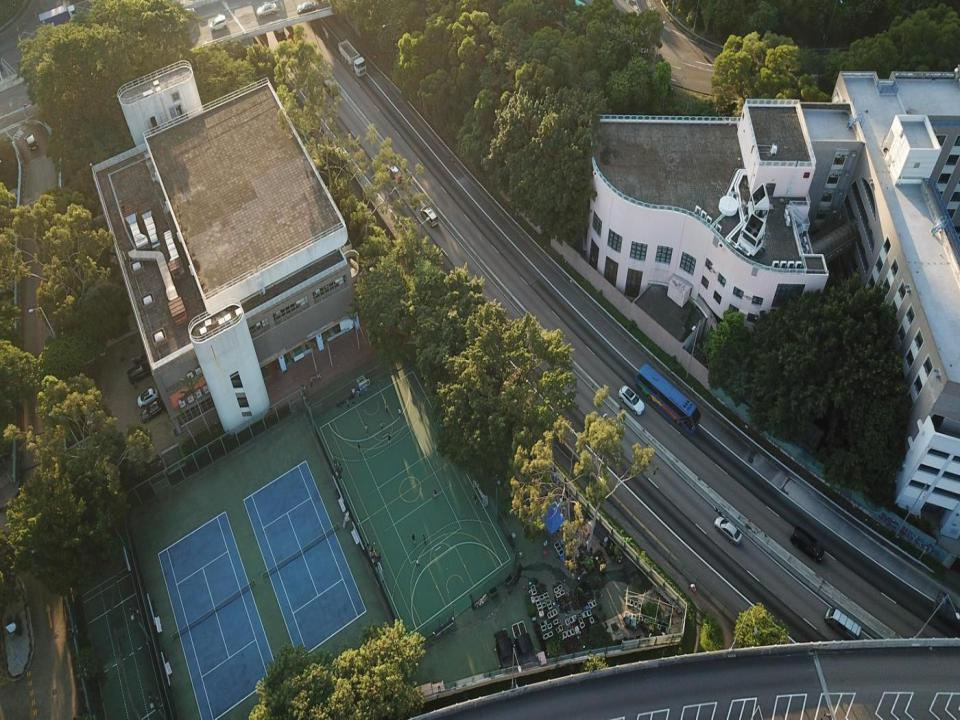bus: (634, 363, 700, 434)
car: (618, 384, 646, 414), (714, 516, 742, 546), (140, 399, 164, 422), (128, 366, 149, 384), (255, 1, 278, 17), (138, 387, 157, 406), (174, 8, 196, 23), (209, 15, 227, 32), (421, 206, 438, 224), (297, 0, 318, 14), (26, 133, 38, 150), (272, 20, 283, 35)
truck: (338, 37, 368, 76)
van: (790, 525, 823, 562), (825, 608, 863, 640), (38, 4, 78, 32), (387, 162, 401, 182), (324, 78, 335, 97)
